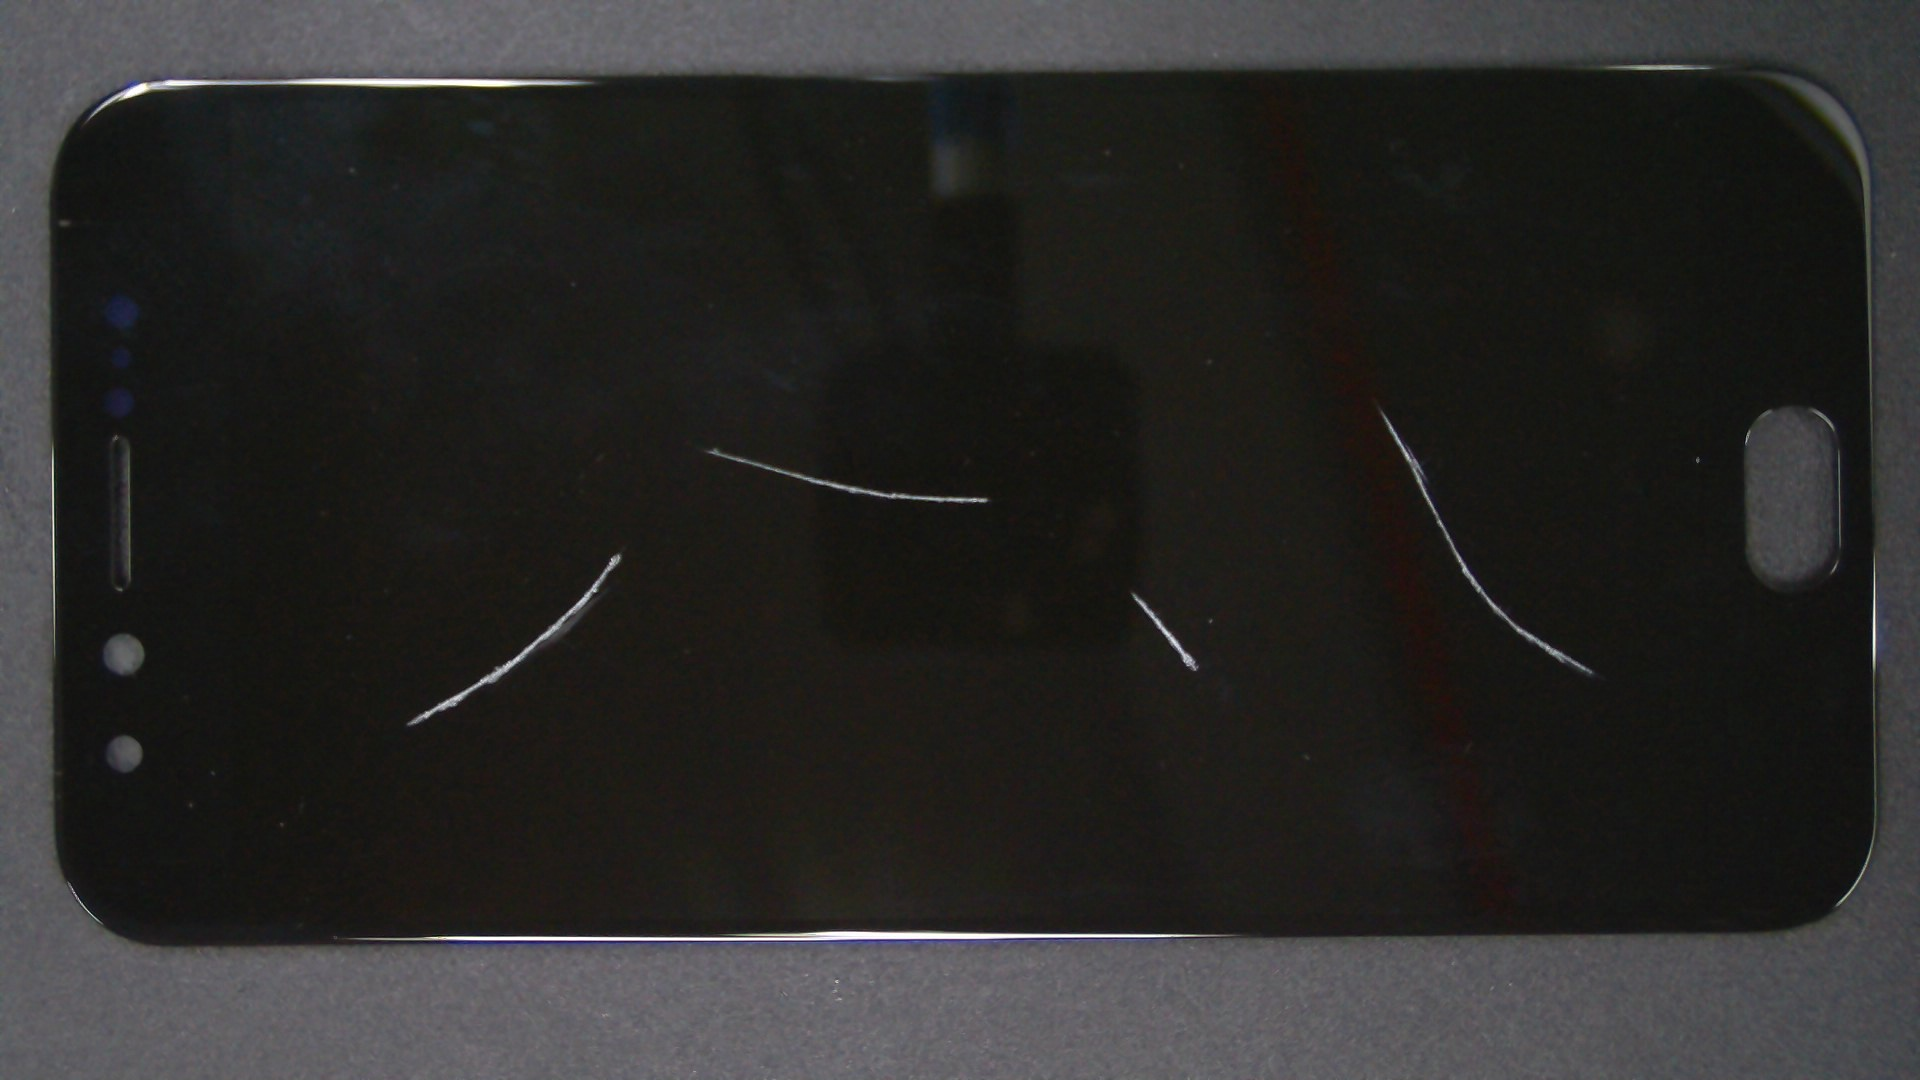oil: (567, 295, 1700, 890), (687, 200, 1920, 604), (310, 277, 928, 832), (357, 223, 1072, 673)
